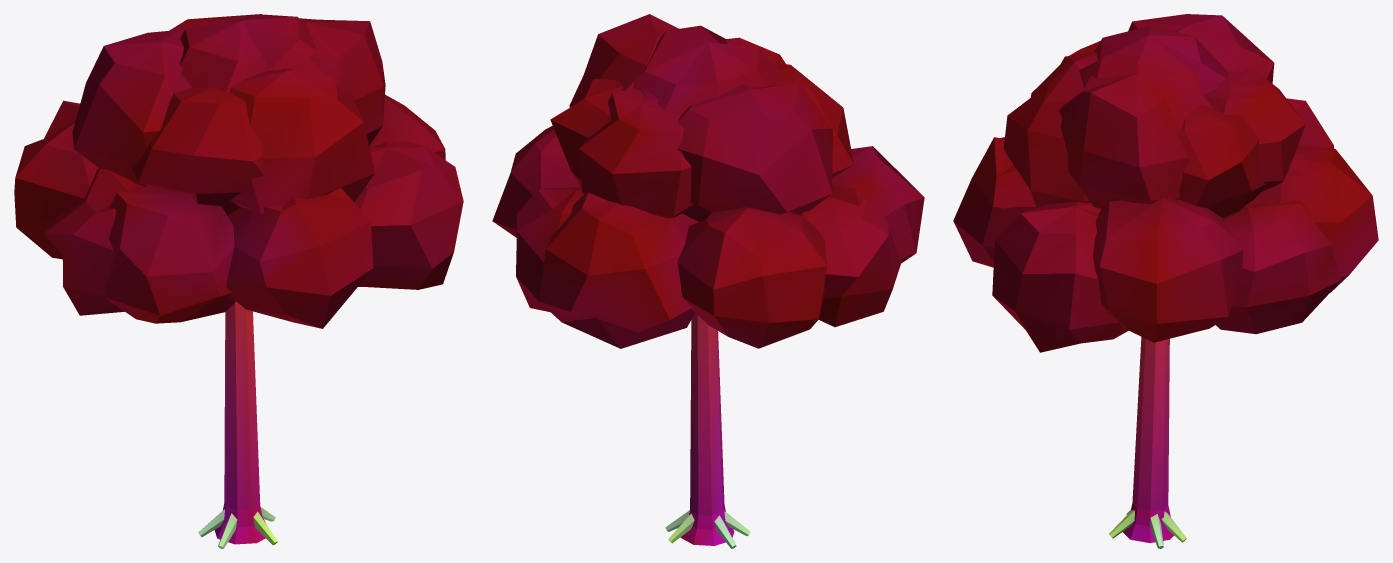
The model's file is Tree_Beech_Tall_01.fbx.
3 views of the same model, side by side, from view 1: azimuth 30°, elevation 25°; view 2: azimuth 150°, elevation 25°; view 3: azimuth 270°, elevation 25° (orthographic). The views are drawn at different scales.
Visible parts, largest first — view 1: Tree_Beech_Tall_01; view 2: Tree_Beech_Tall_01; view 3: Tree_Beech_Tall_01.
Boxes of the visible parts, box(x1,y1,x2,y2) form: Tree_Beech_Tall_01: box(14, 14, 463, 548); Tree_Beech_Tall_01: box(492, 14, 924, 548); Tree_Beech_Tall_01: box(953, 14, 1378, 548).
Bounding box in the file's own units: 8.47 × 10.87 × 8.43.
